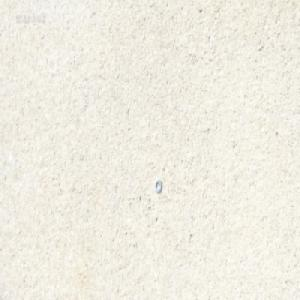Washer: (154, 178, 162, 193)
